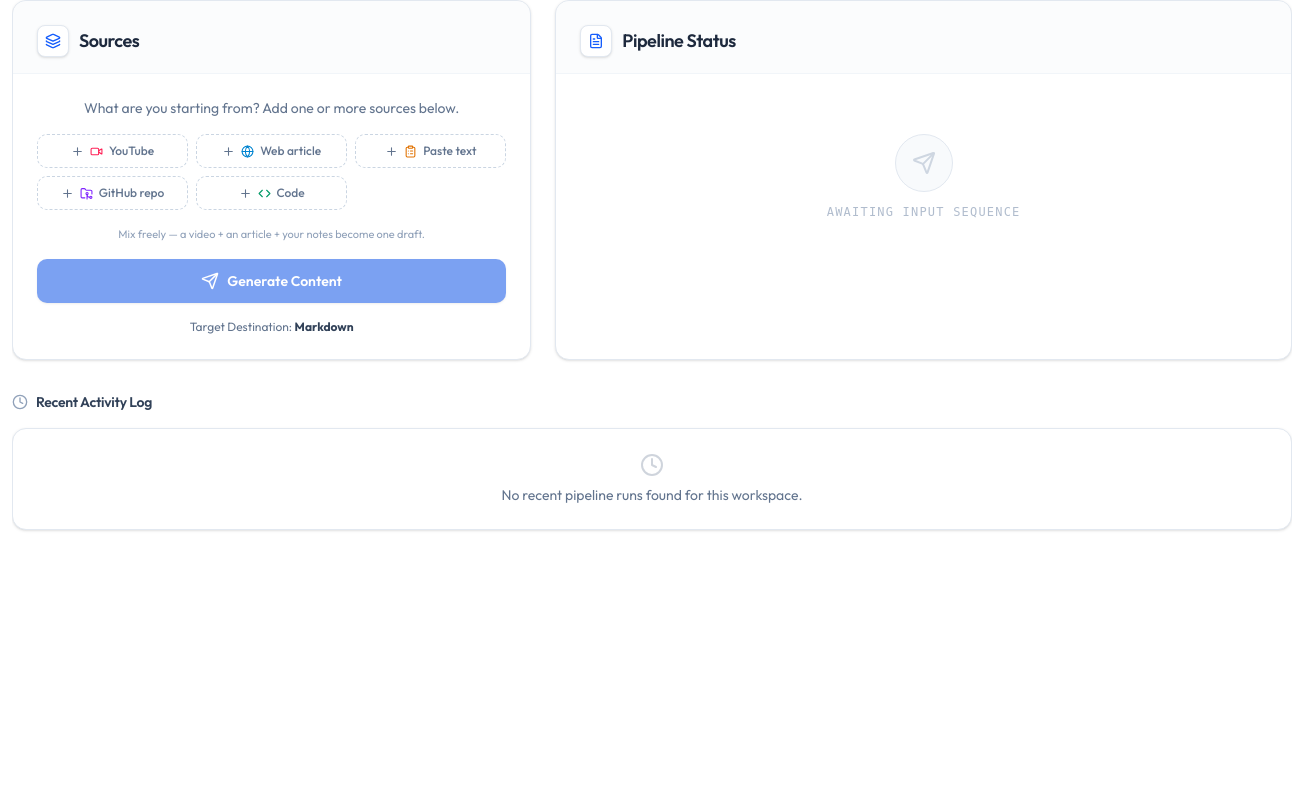
Scenario: PipelineTrigger (Source Composer) › warns when a pasted YouTube URL already fed published content
Click the button "YouTube": x=113, y=151 [37, 134, 188, 168]
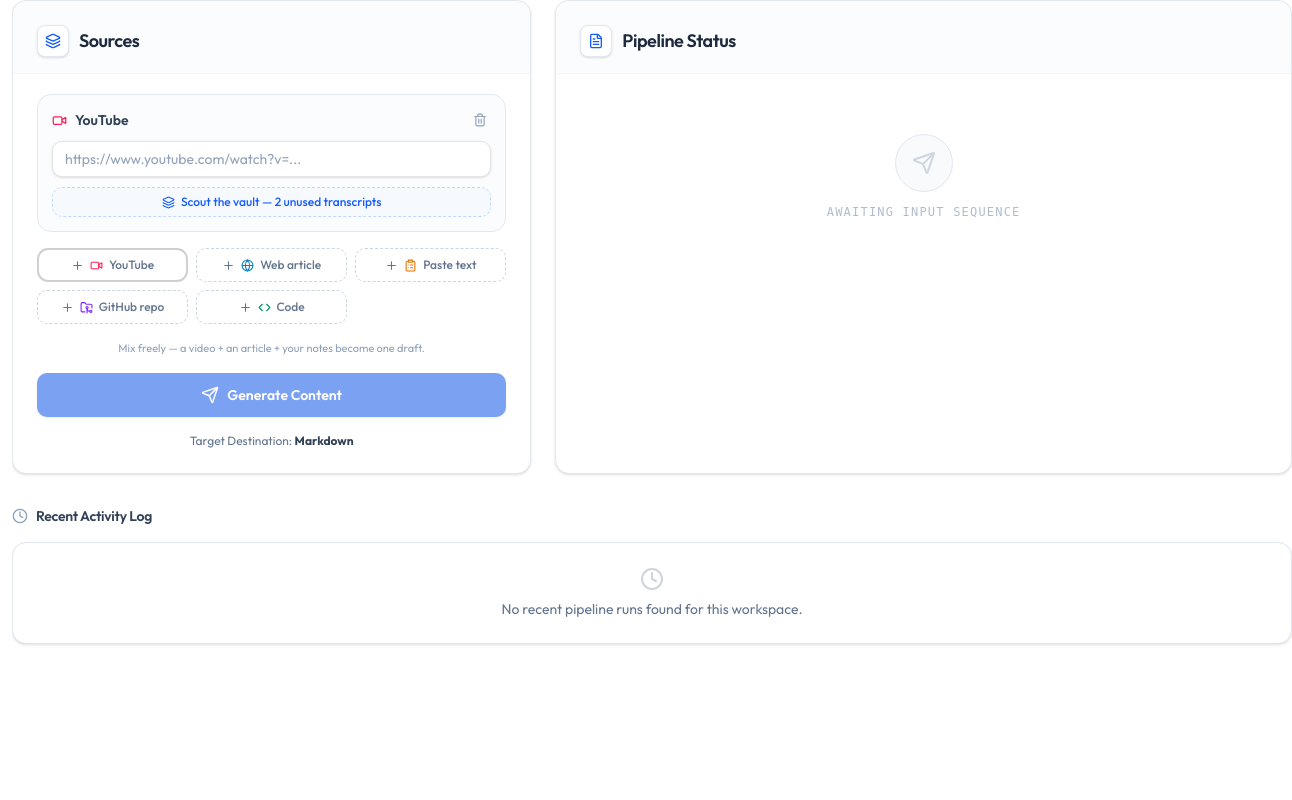
In the field with placeholder "https://www.youtube.com/watch?v=...": x=272, y=159 [52, 141, 491, 177], type "https://youtu.be/usedvid"
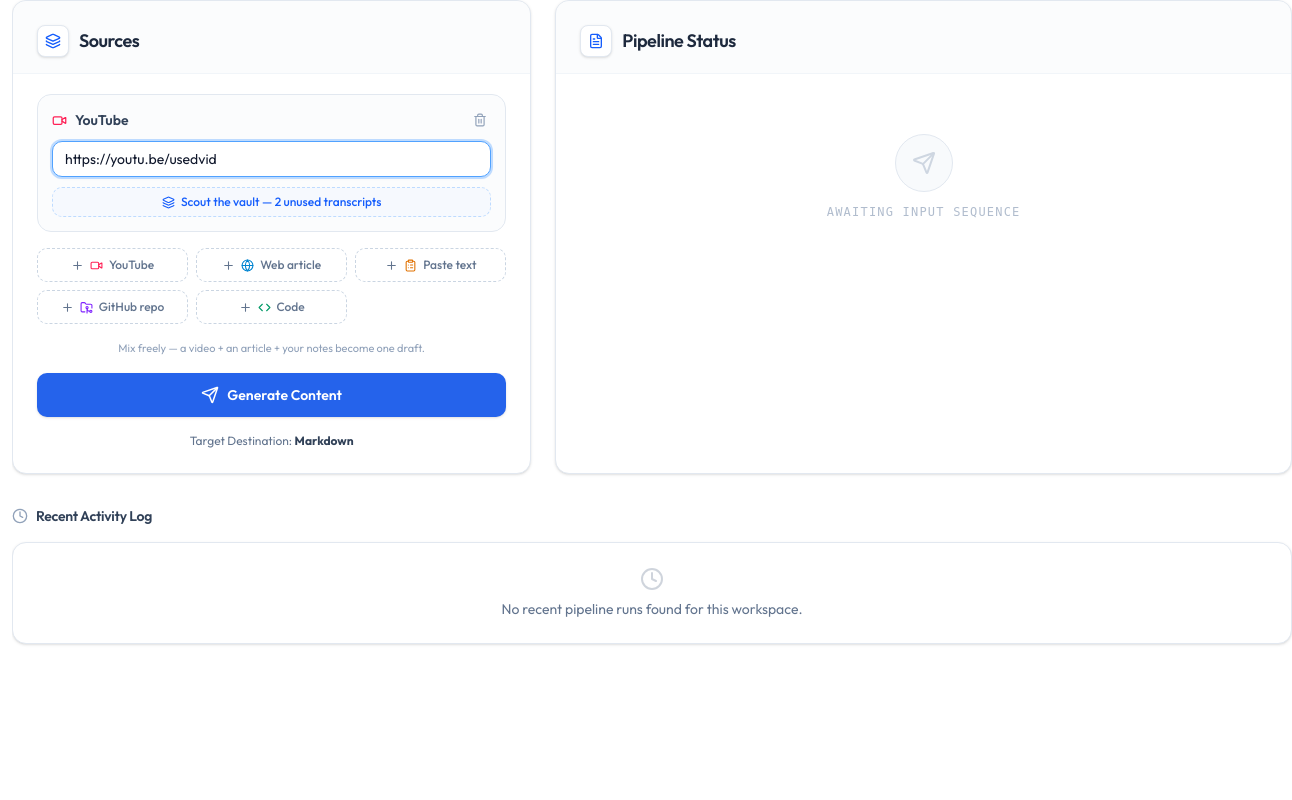
Press Tab
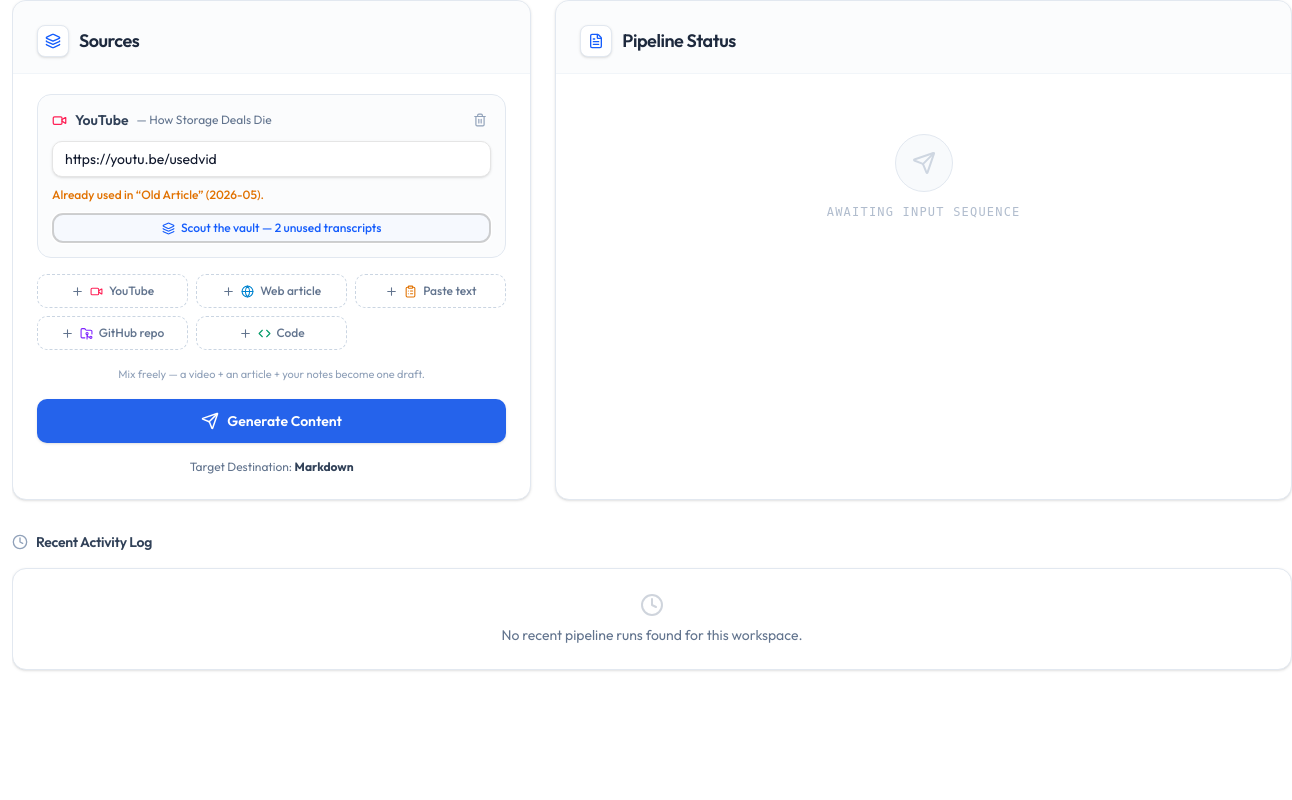
Expected: the text "Already used in “Old Article” (2026-05)." is shown, [52, 187, 264, 202]
